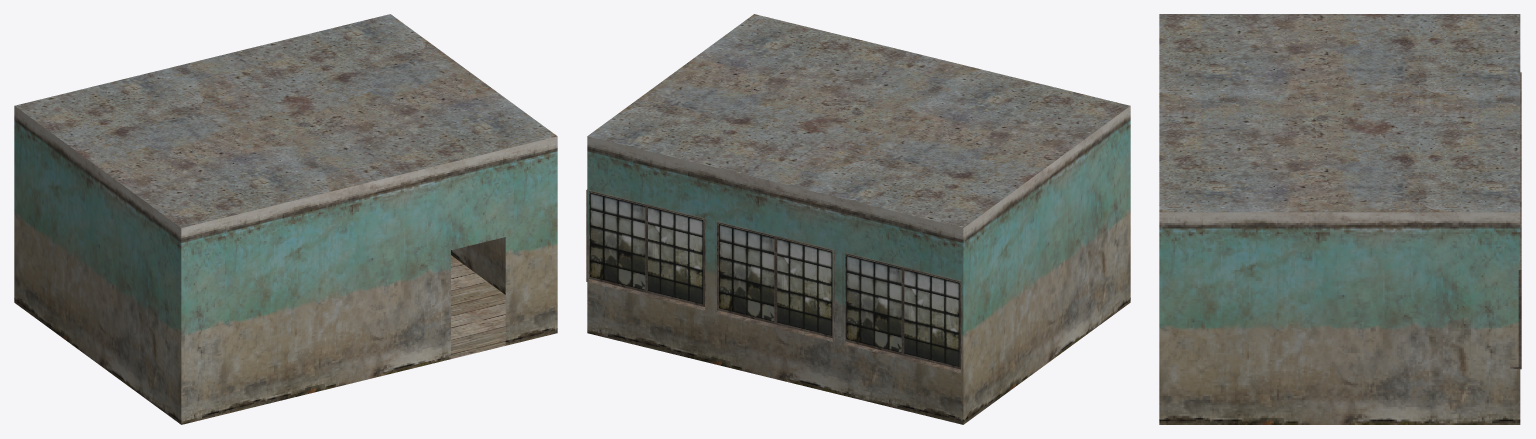
The model's file is _Classroom_1_2.FBX.
3 renders of one model, left to right at view 1: azimuth 30°, elevation 25°; view 2: azimuth 150°, elevation 25°; view 3: azimuth 270°, elevation 25°, orthographic. The views are drawn at different scales.
Visible parts, largest first — view 1: _Classroom_1_2; view 2: _Classroom_1_2; view 3: _Classroom_1_2.
Boxes of the visible parts, x1,y1,x2,y2 form: _Classroom_1_2: [14, 14, 557, 424]; _Classroom_1_2: [586, 14, 1130, 424]; _Classroom_1_2: [1159, 14, 1521, 424].
Bounding box in the file's own units: 650 × 325 × 502.
Materials: 5 (5 with a texture image).
